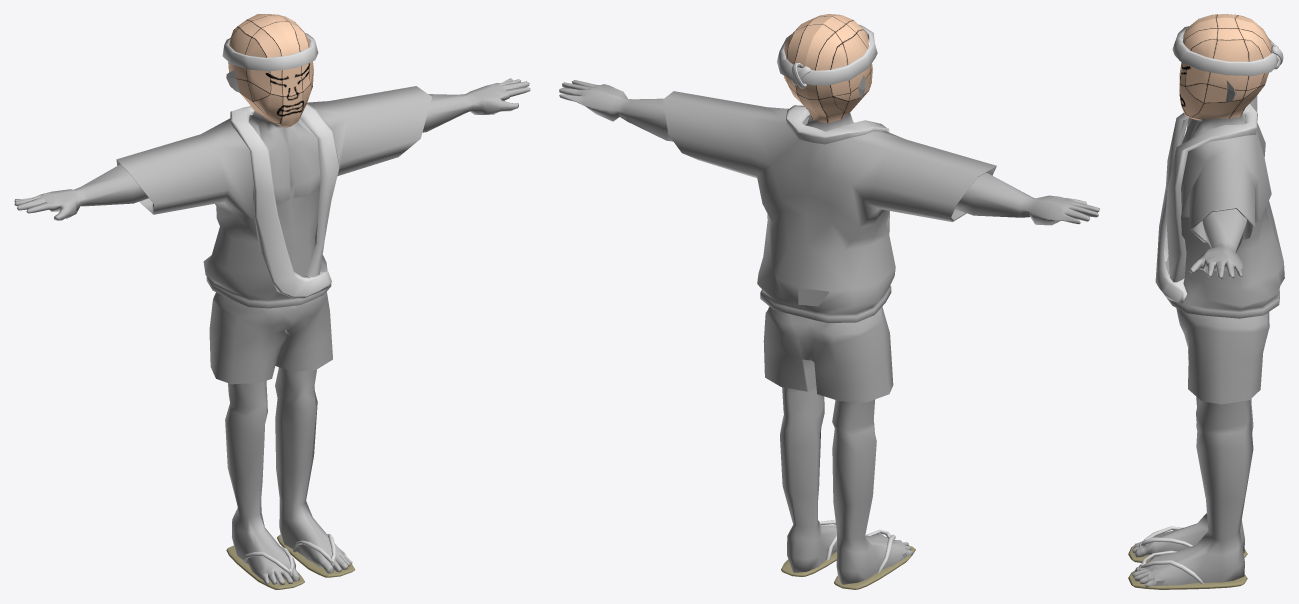
File: Person1.fbx
3 renders of one model, left to right at view 1: azimuth 30°, elevation 25°; view 2: azimuth 150°, elevation 25°; view 3: azimuth 270°, elevation 25°, orthographic. The views are drawn at different scales.
Parts seen in each view (by area): view 1: polySurface35, polySurface13, polySurface33, polySurface14, pTorus8, polySurface36, polySurface38; view 2: polySurface13, polySurface35, polySurface33, pTorus8, polySurface14, polySurface36; view 3: polySurface35, polySurface13, polySurface33, polySurface14, pTorus8, polySurface36, polySurface38.
Boxes of the visible parts, x1=… form: polySurface35: x1=14, y1=14, x2=530, y2=585; polySurface13: x1=116, y1=86, x2=431, y2=308; polySurface33: x1=209, y1=276, x2=332, y2=384; polySurface14: x1=230, y1=103, x2=339, y2=298; pTorus8: x1=222, y1=33, x2=318, y2=71; polySurface36: x1=226, y1=535, x2=355, y2=589; polySurface38: x1=243, y1=534, x2=335, y2=577; polySurface13: x1=663, y1=91, x2=996, y2=322; polySurface35: x1=559, y1=14, x2=1099, y2=584; polySurface33: x1=763, y1=306, x2=893, y2=402; pTorus8: x1=777, y1=24, x2=877, y2=88; polySurface14: x1=786, y1=105, x2=889, y2=234; polySurface36: x1=781, y1=545, x2=915, y2=589; polySurface35: x1=1132, y1=14, x2=1271, y2=587; polySurface13: x1=1165, y1=95, x2=1284, y2=318; polySurface33: x1=1176, y1=308, x2=1269, y2=404; polySurface14: x1=1155, y1=103, x2=1257, y2=303; pTorus8: x1=1172, y1=26, x2=1283, y2=75; polySurface36: x1=1128, y1=545, x2=1247, y2=589; polySurface38: x1=1139, y1=526, x2=1203, y2=583.
Size of the model in its own units: 161 by 159 by 41.16.
4 materials, 1 textured.
